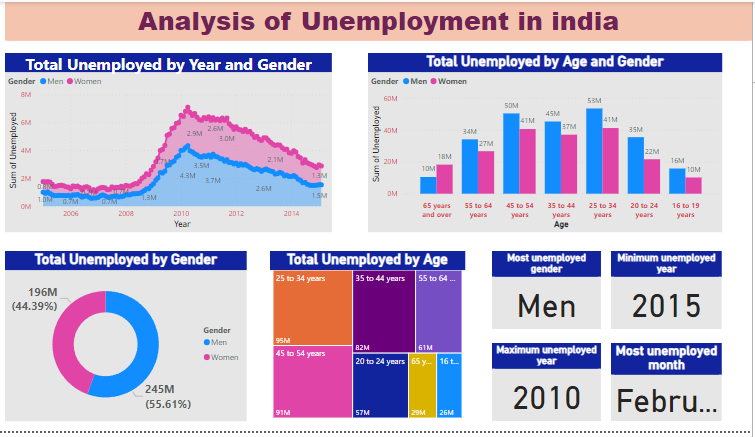

The dashboard page shown, as its layout file describes it:
{"tool":"powerbi","page":{"name":"Page 1","canvas":[1280,720],"ordinal":0},"visuals":[{"type":"textbox","title":"Analysis of Unemployment in india","box":[25.2,0,1254.8,280.5],"z":0},{"type":"stackedAreaChart","title":"Total Unemployed by Year and Gender","fields":{"Category":["Sheet1.Period.Variation.Date Hierarchy.Year","Sheet1.Period.Variation.Date Hierarchy.Quarter","Sheet1.Period.Variation.Date Hierarchy.Month","Sheet1.Period.Variation.Date Hierarchy.Day"],"Y":["Sum(Sheet1.Unemployed)"],"Series":["Sheet1.Gender"]},"box":[25.2,85.7,549.3,300.7],"z":1000},{"type":"clusteredColumnChart","title":"Total Unemployed by Age and Gender","fields":{"Category":["Sheet1.Age"],"Y":["Sum(Sheet1.Unemployed)"],"Series":["Sheet1.Gender"]},"box":[635,85.7,594.6,300.7],"z":2000},{"type":"donutChart","title":"Total Unemployed by Gender","fields":{"Category":["Sheet1.Gender"],"Y":["Sum(Sheet1.Unemployed)"]},"box":[24.8,418.4,406,286.3],"z":3000},{"type":"treemap","title":"Total Unemployed by Age","fields":{"Group":["Sheet1.Age"],"Values":["Sum(Sheet1.Unemployed)"]},"box":[470.3,418.3,327.6,285.6],"z":4000},{"type":"card","title":"Most unemployed gender","fields":{"Values":["Min(Sheet1.Gender)"]},"box":[843.3,418.3,183.1,131],"z":4001},{"type":"card","title":"Minimum unemployed year","fields":{"Values":["Min(Sheet1.Period.Variation.Date Hierarchy.Year)"]},"box":[1043.1,418.3,186.5,131],"z":4002},{"type":"card","title":"Maximum unemployed year","fields":{"Values":["Max(Sheet1.Period.Variation.Date Hierarchy.Year)"]},"box":[843.3,572.8,183.1,131],"z":4003},{"type":"card","title":"Most unemployed month","fields":{"Values":["Min(Sheet1.Period.Variation.Date Hierarchy.Month)"]},"box":[1043.1,572.8,186.5,131],"z":4004}]}

Visuals, with their boxes in screenshot pixels (x1, y1, x2, y2), scaled from the page's 1280x720 canvas onto the 755x437 screenshot:
"Analysis of Unemployment in india" textbox: 15,0,754,170
"Total Unemployed by Year and Gender" stackedAreaChart: 15,52,339,235
"Total Unemployed by Age and Gender" clusteredColumnChart: 375,52,725,235
"Total Unemployed by Gender" donutChart: 15,254,254,428
"Total Unemployed by Age" treemap: 277,254,471,427
"Most unemployed gender" card: 497,254,605,333
"Minimum unemployed year" card: 615,254,725,333
"Maximum unemployed year" card: 497,348,605,427
"Most unemployed month" card: 615,348,725,427
